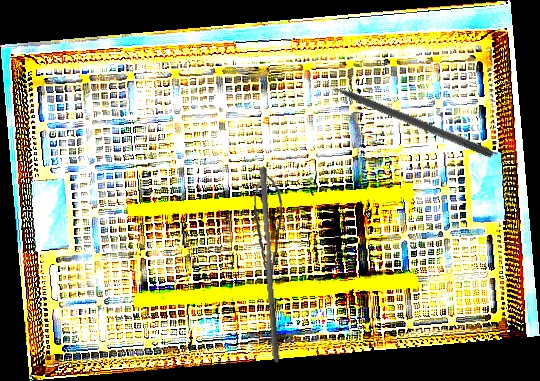Micro Scissor: (245, 174, 286, 294)
Pusher: (309, 71, 496, 160), (252, 165, 288, 365)
